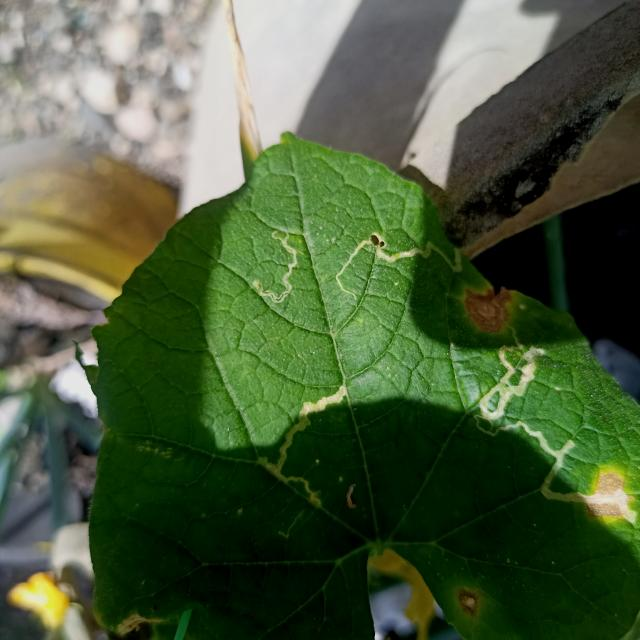disease_cucumber: (458, 280, 514, 339), (585, 472, 628, 522), (454, 583, 483, 623)
